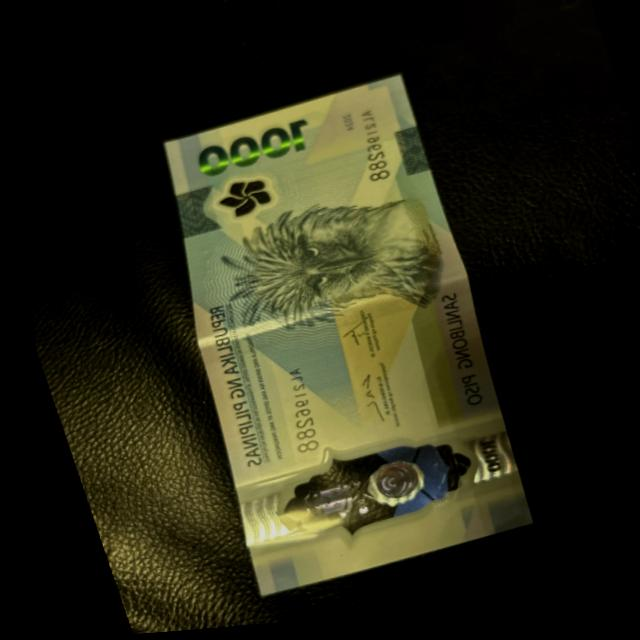clear_window: (237, 423, 487, 565)
eagle: (212, 174, 456, 351)
sampaguita: (205, 168, 280, 228)
